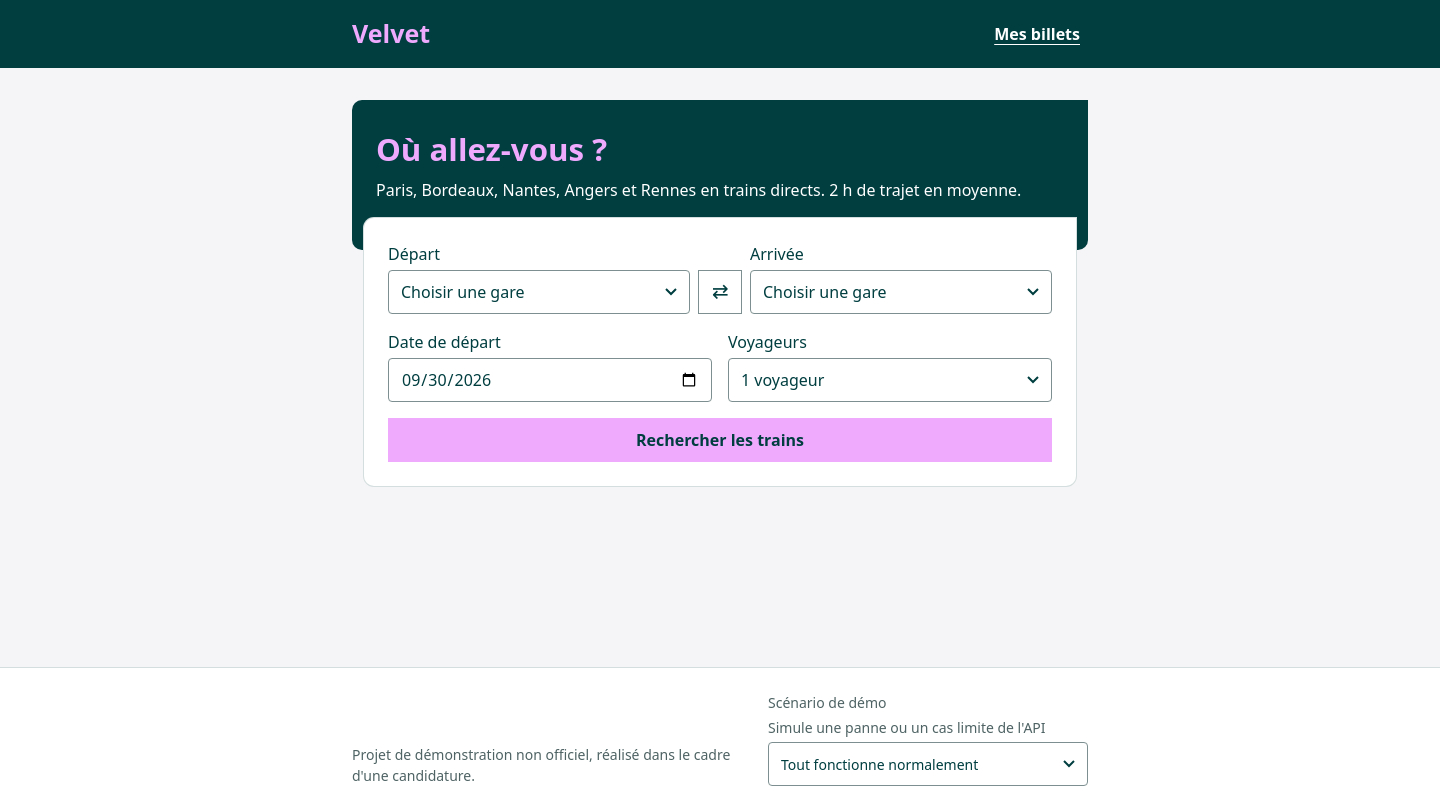
Test: recherche de trajet › demande les gares manquantes et place le focus sur le premier champ en erreur
Expected: the dropdown labelled "Départ" is shown, [388, 270, 690, 314]
Step 1. Click the button "Rechercher les trains" → (720, 440), box [388, 418, 1052, 462]
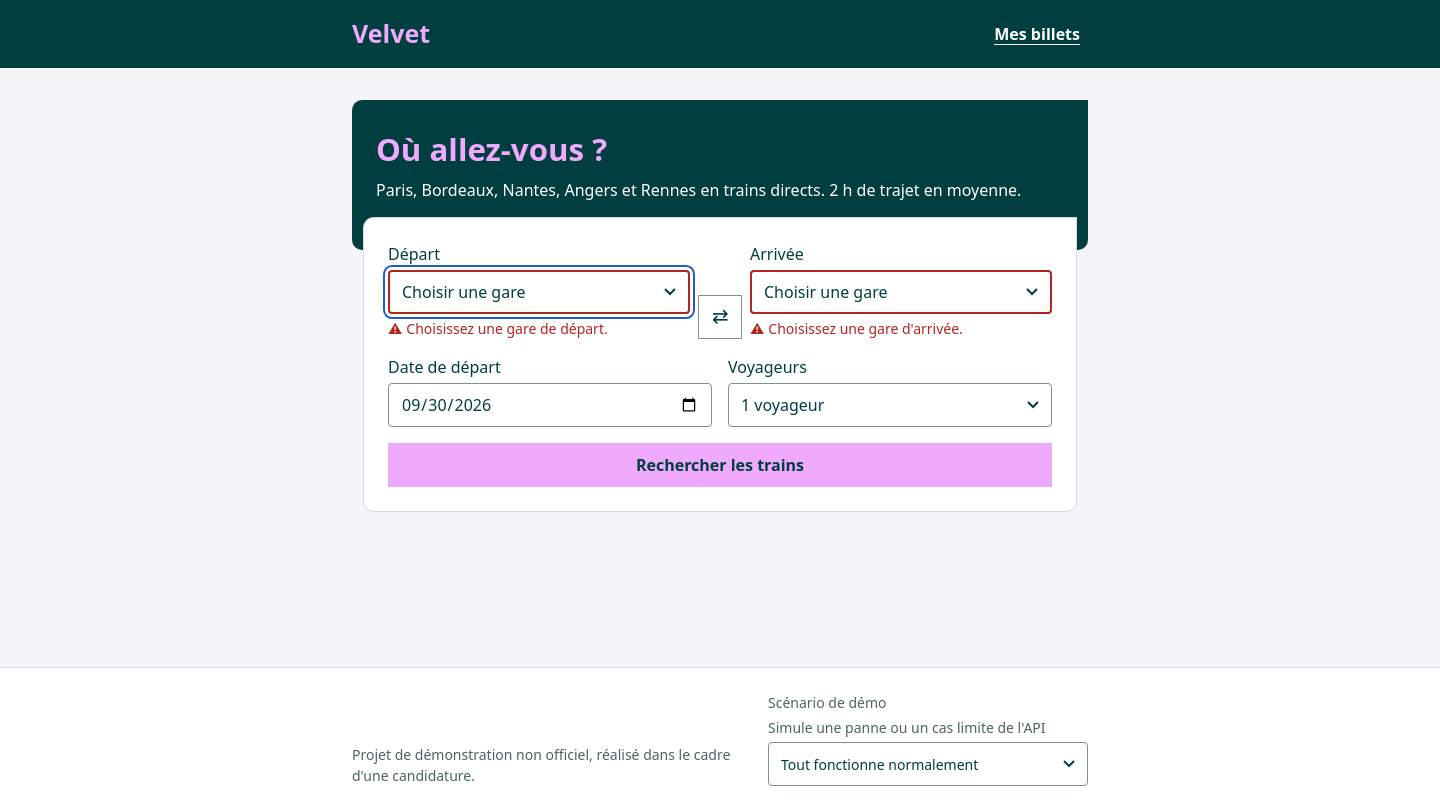
Expected: the text "Choisissez une gare de départ." is shown, [406, 319, 608, 338]
